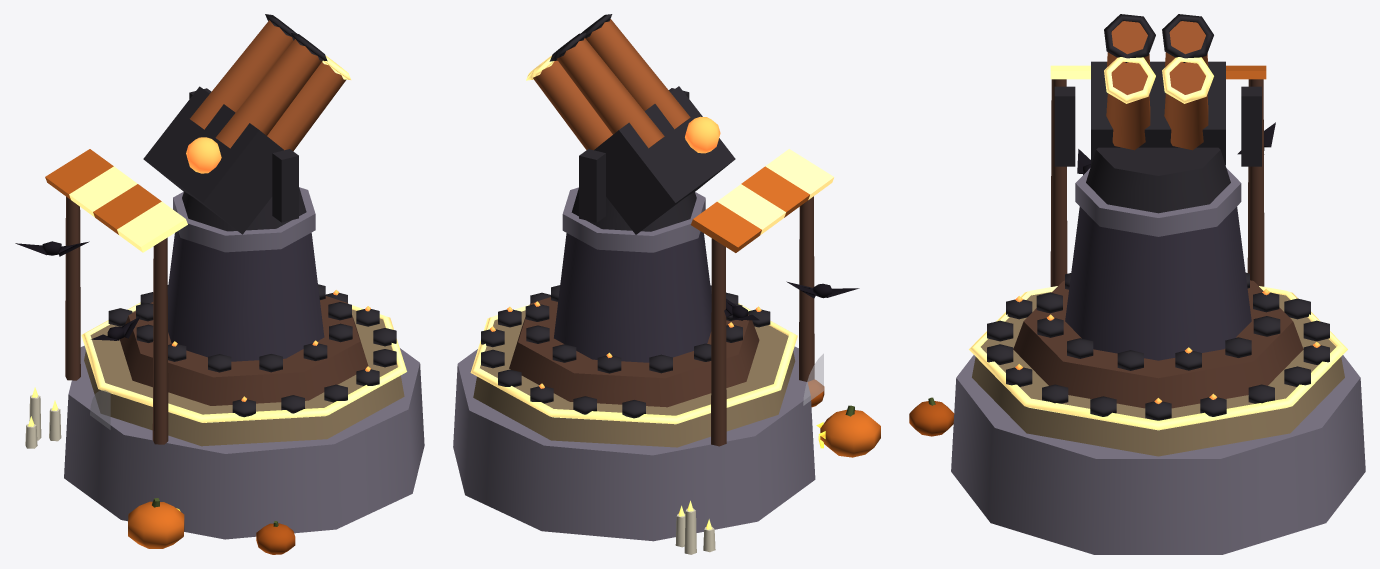
The model's file is tower_mine_carpet.glb.
3 renders of one model, left to right at view 1: azimuth 30°, elevation 25°; view 2: azimuth 150°, elevation 25°; view 3: azimuth 270°, elevation 25°, orthographic. The views are drawn at different scales.
Visible parts, largest first — view 1: base, launcher_drum, stall_tier_low, stall_tier_high, launcher_breech, launch_tube_2, launch_tube_3, stall_trim, launcher_drum_cap, awning_post_l, launch_tube_0, awning_post_r (+11 smaller); view 2: base, launcher_drum, stall_tier_low, stall_tier_high, launcher_breech, launch_tube_3, launch_tube_2, stall_trim, launcher_drum_cap, awning_post_r, launch_tube_1, awning_post_l (+10 smaller); view 3: base, launcher_drum, stall_tier_high, stall_tier_low, turret_yoke, launcher_breech, stall_trim, launcher_drum_cap, launch_tube_0, launch_tube_1, awning_post_l, awning_post_r (+11 smaller).
Boxes of the visible parts, x1,y1,x2,y2 form: base: (64,345,424,539); launcher_drum: (167,231,324,361); stall_tier_low: (84,309,404,446); stall_tier_high: (119,296,368,405); launcher_breech: (143,86,283,234); launch_tube_2: (215,39,322,148); launch_tube_3: (190,20,293,129); stall_trim: (81,302,406,422); launcher_drum_cap: (173,187,315,252); awning_post_l: (152,237,168,444); launch_tube_0: (267,62,346,151); awning_post_r: (65,196,80,380); base: (453,346,815,541); launcher_drum: (554,231,711,362); stall_tier_low: (473,310,795,447); stall_tier_high: (509,297,759,407); launcher_breech: (594,86,735,234); launch_tube_3: (557,38,664,148); launch_tube_2: (585,19,690,129); stall_trim: (470,303,797,424); launcher_drum_cap: (562,187,705,252); awning_post_r: (711,238,726,446); launch_tube_1: (533,60,612,150); awning_post_l: (799,196,814,381); base: (951,355,1365,554); launcher_drum: (1065,206,1251,360); stall_tier_high: (1013,280,1303,408); stall_tier_low: (972,292,1344,456); turret_yoke: (1086,147,1230,213); launcher_breech: (1091,61,1225,164); stall_trim: (969,286,1347,430); launcher_drum_cap: (1075,168,1241,236); launch_tube_0: (1106,62,1150,150); launch_tube_1: (1164,62,1208,150); awning_post_l: (1050,79,1067,286); awning_post_r: (1247,79,1264,286).
Bounding box in the file's own units: 0.4277 × 0.5095 × 0.4404.
